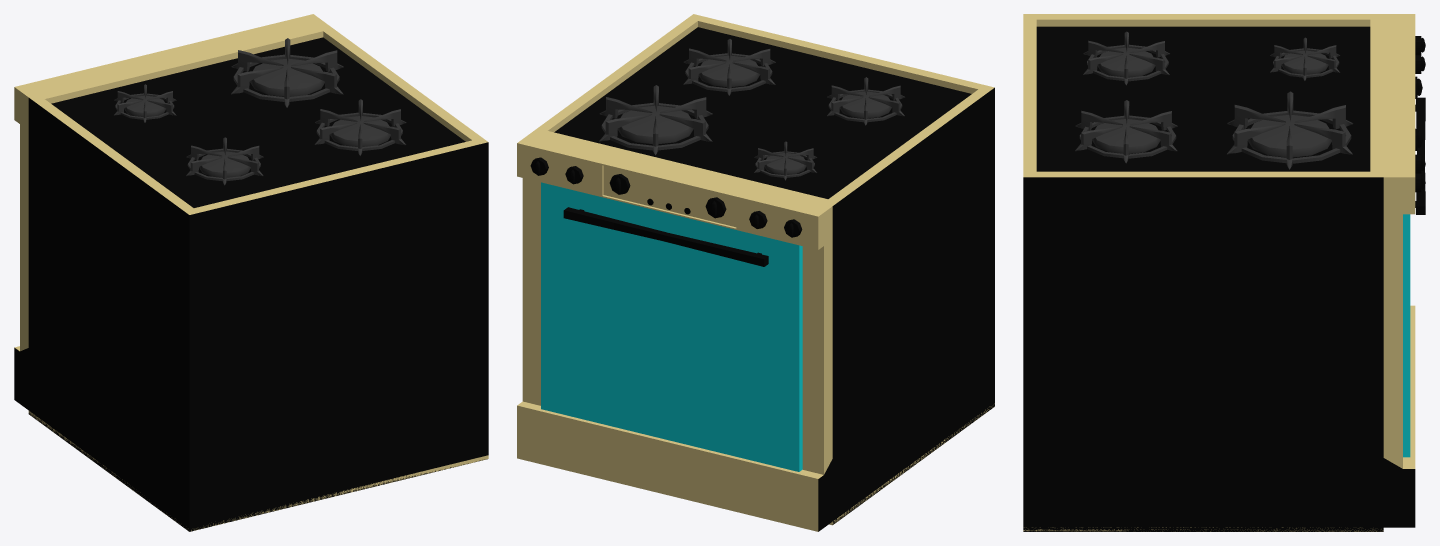
File: Oven.fbx
3 views of the same model, side by side, from view 1: azimuth 30°, elevation 25°; view 2: azimuth 150°, elevation 25°; view 3: azimuth 270°, elevation 25° (orthographic). The views are drawn at different scales.
Visible parts, largest first — view 1: Oven; view 2: Oven, OvenDoor; view 3: Oven, OvenDoor.
Boxes of the visible parts, <box> form: Oven: <box>14,14,488,531</box>; Oven: <box>517,14,994,531</box>; OvenDoor: <box>541,182,802,471</box>; Oven: <box>1023,14,1425,531</box>; OvenDoor: <box>1403,97,1425,457</box>.
Bounding box in the file's own units: 400 × 421 × 417.
